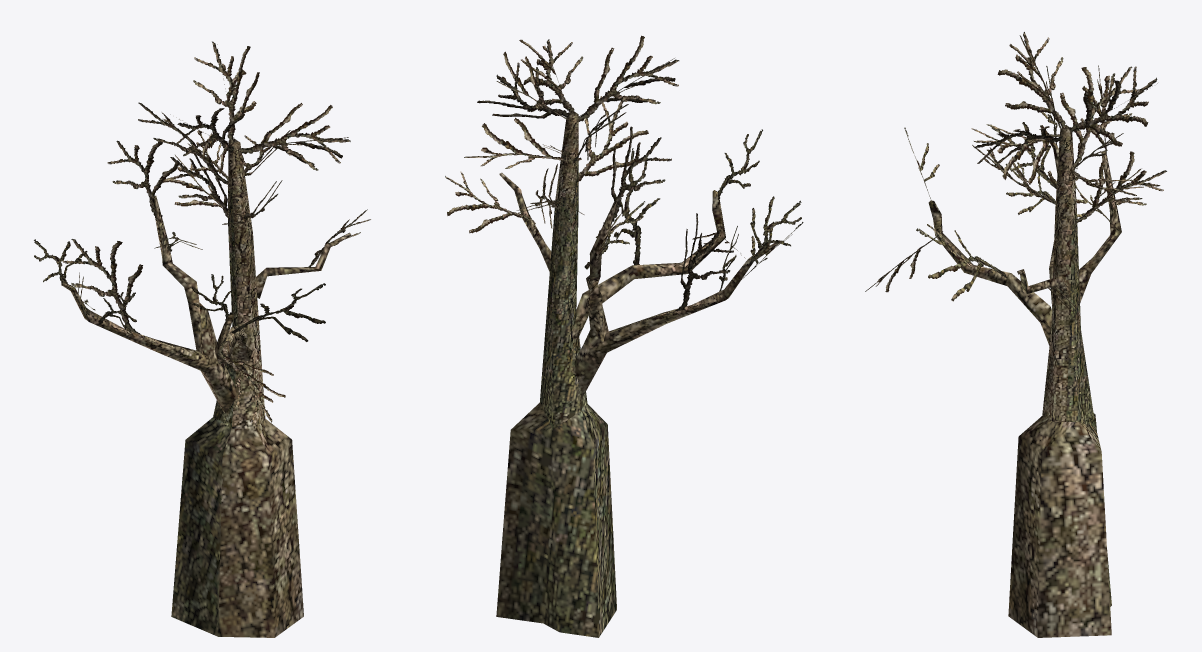
The model's file is flora_tree_oak_dead.glb.
3 renders of one model, left to right at view 1: azimuth 30°, elevation 25°; view 2: azimuth 150°, elevation 25°; view 3: azimuth 270°, elevation 25°, orthographic. The views are drawn at different scales.
Visible parts, largest first — view 1: flora_tree_oak_dead_part0; view 2: flora_tree_oak_dead_part0; view 3: flora_tree_oak_dead_part0.
Part boxes in pixels (x1,y1,x2,y2): flora_tree_oak_dead_part0: (34, 41, 370, 637); flora_tree_oak_dead_part0: (445, 35, 803, 637); flora_tree_oak_dead_part0: (865, 32, 1166, 637).
Bounding box in the file's own units: 20.5 × 30.36 × 15.54.
Materials: 1 (1 with a texture image).
